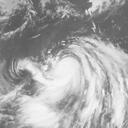cyclone: (28, 36, 111, 110)
